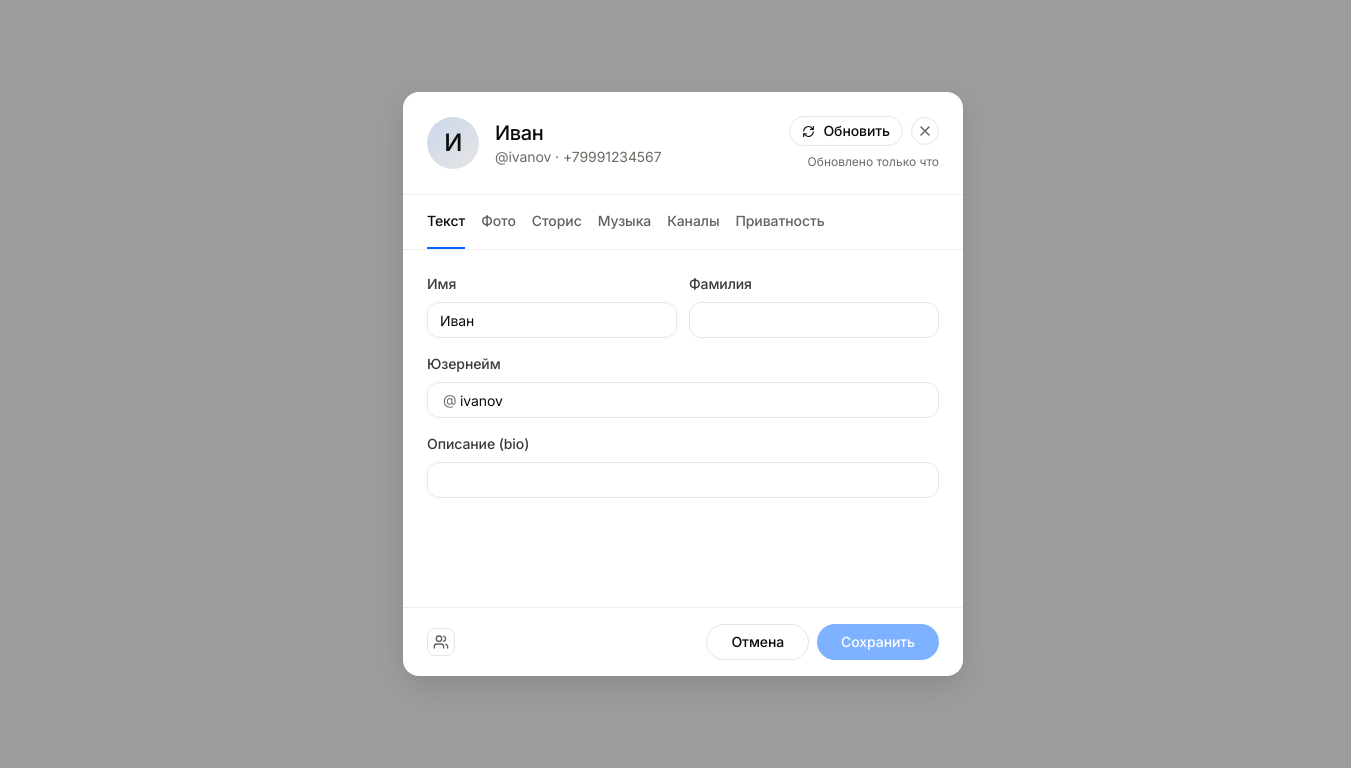
Scenario: a rejected save shows the translated username error under the field
In the field showing "ivanov": (683, 400) [427, 382, 939, 418], type "2"
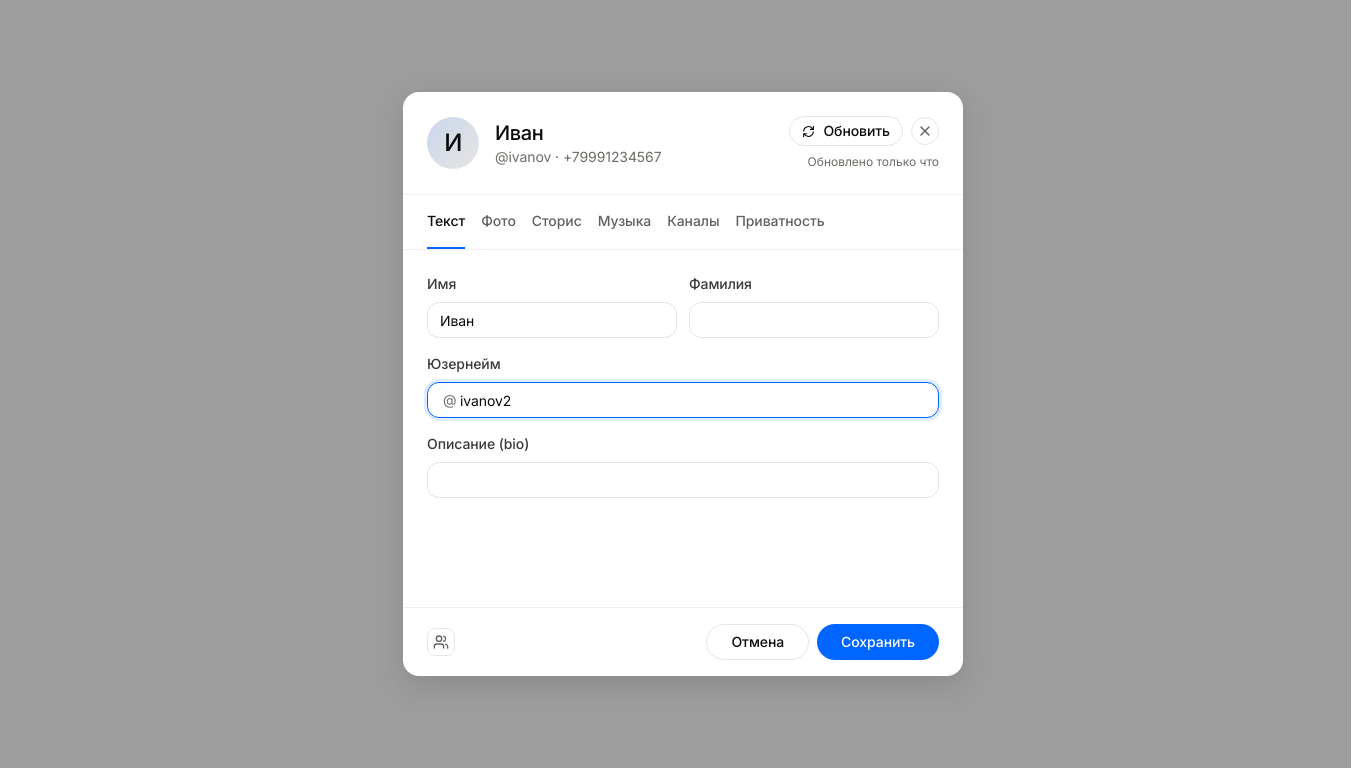
Click the button "Сохранить": (878, 642) [817, 624, 939, 660]
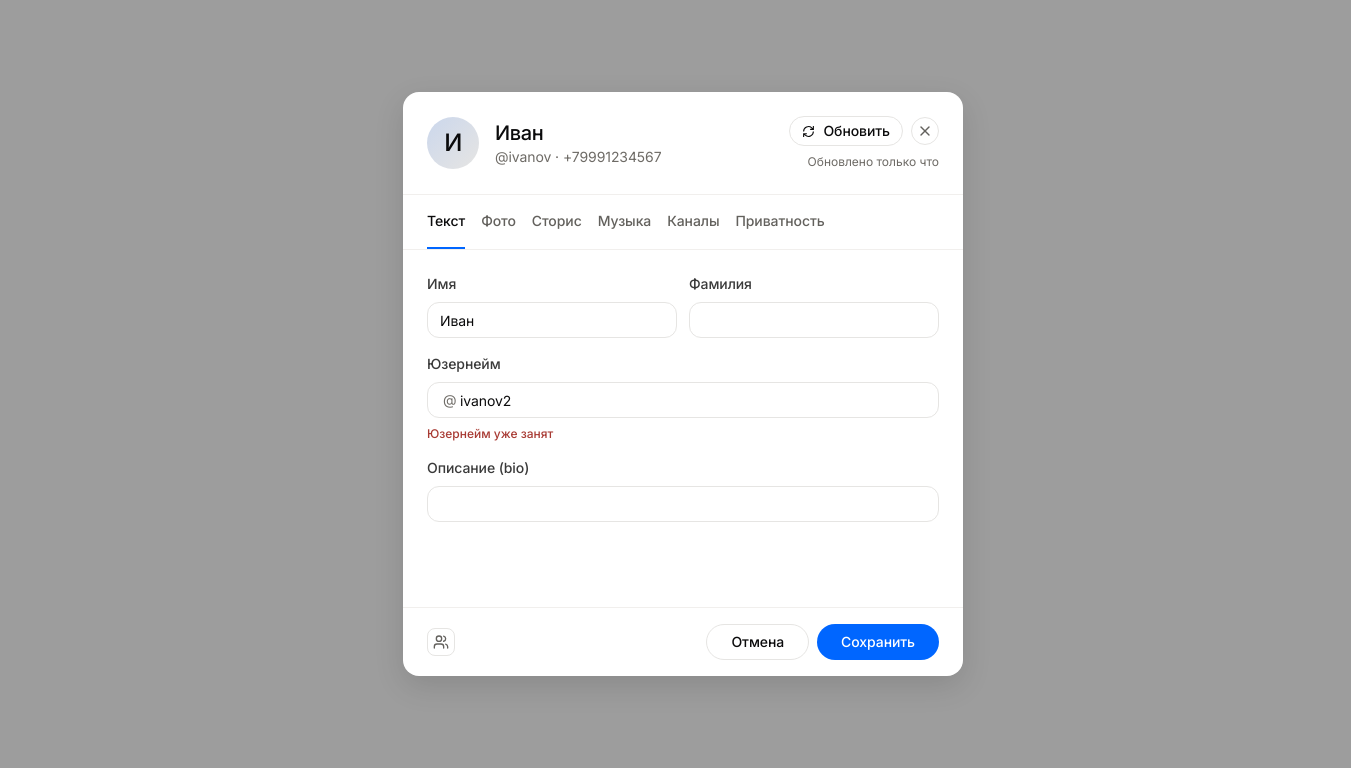
Result: the text "Юзернейм уже занят" is shown at [427, 426, 553, 441]
